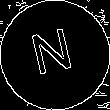N_S: (30, 26, 80, 84)
